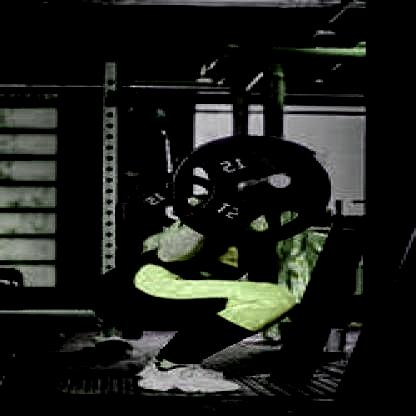Barbell: (258, 164, 294, 193)
